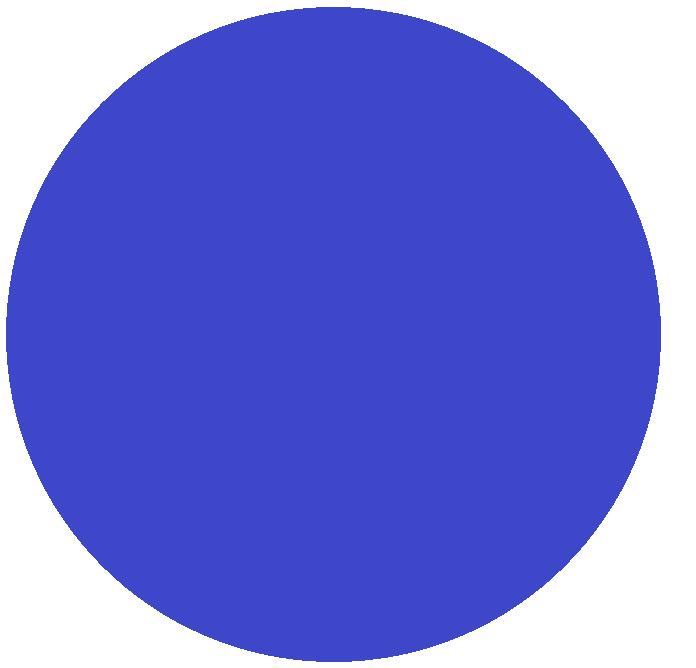blue_circle: (0, 0, 688, 668)
